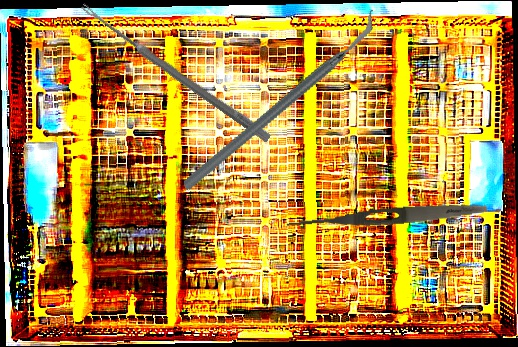Chopper: (151, 9, 408, 193)
Dressing Forceps: (285, 199, 488, 235)
Surgical Spoon: (78, 2, 273, 143)
